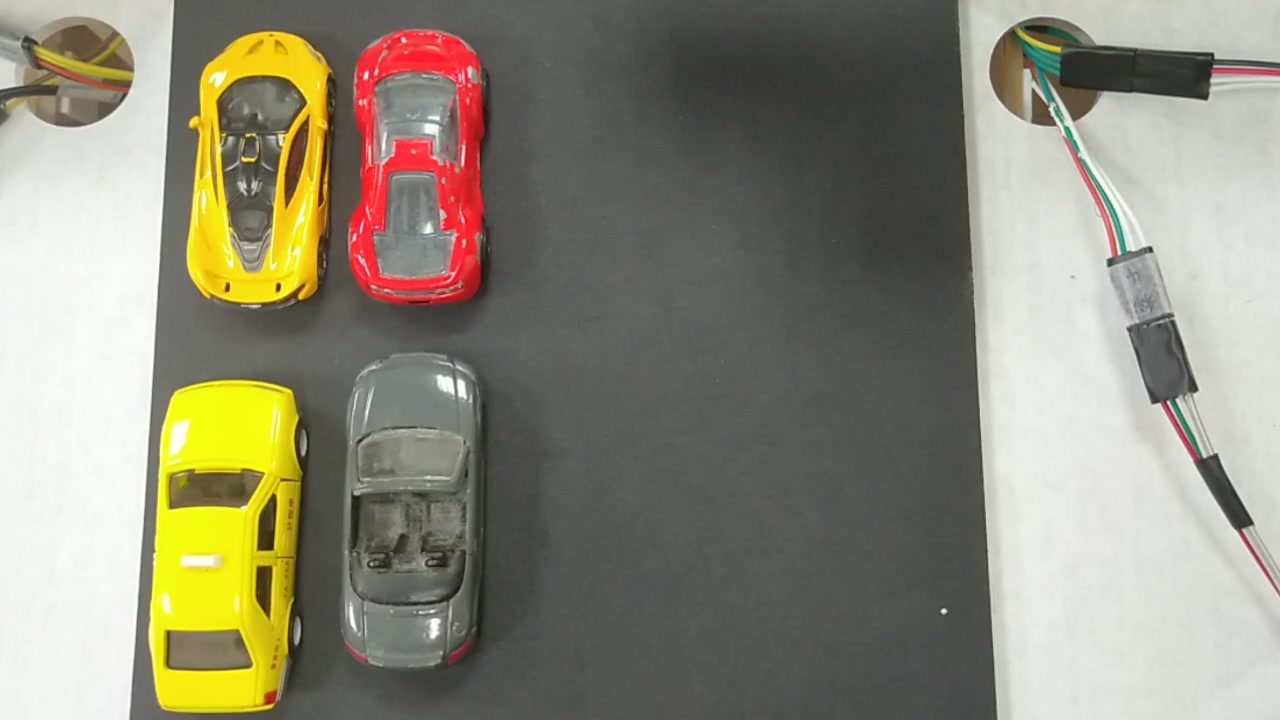car: (152, 376, 308, 710), (338, 359, 476, 667), (189, 34, 327, 299), (353, 26, 483, 299)
